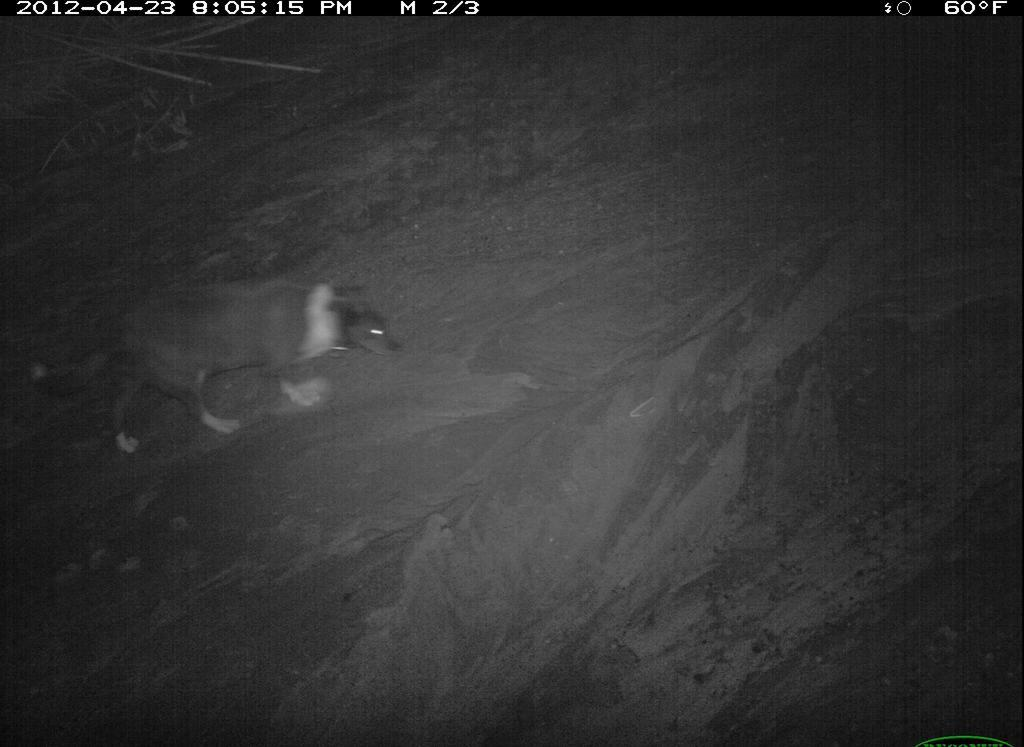dog: (34, 530, 822, 747)
